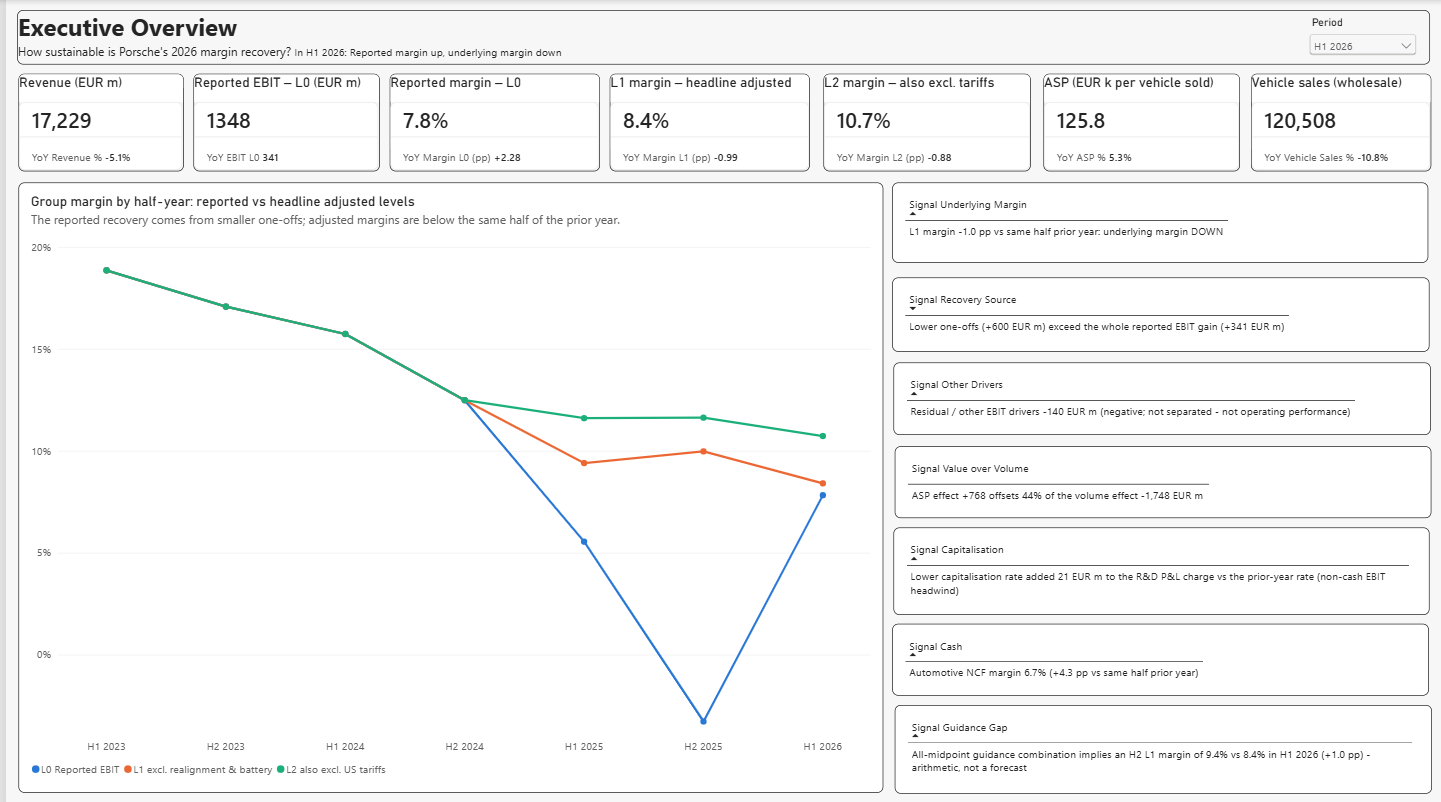

Layout of this report page (visuals, bound fields, positions):
{"tool":"powerbi","page":{"name":"1 Executive Overview","canvas":[1920,1080],"ordinal":0},"visuals":[{"type":"textbox","box":[15.6,13.9,1887.3,73],"z":0},{"type":"cardVisual","title":"Revenue (EUR m)","fields":{"Data":["FactHalfYear.Revenue"]},"box":[16.7,98.5,220.4,130.2],"z":1000},{"type":"lineChart","title":"Group margin by half-year: reported vs headline adjusted levels","fields":{"Category":["DimPeriod.period_label"],"Series":["DimLevel.level_name"],"Y":["FactHalfYear.Margin by Level"]},"box":[16.7,243.8,1155.5,814.8],"z":2000},{"type":"slicer","fields":{"Values":["DimPeriod.period_label"]},"box":[1736.6,21.7,151.9,55.1],"z":3000},{"type":"cardVisual","title":"Reported EBIT – L0 (EUR m)","fields":{"Data":["FactHalfYear.EBIT L0 Reported"]},"box":[250.5,98.5,248.8,130.2],"z":4000},{"type":"cardVisual","title":"Reported margin – L0","fields":{"Data":["FactHalfYear.Margin L0"]},"box":[512.6,98.5,280.5,130.2],"z":5000},{"type":"cardVisual","title":"L1 margin – headline adjusted","fields":{"Data":["FactHalfYear.Margin L1"]},"box":[806.5,98.5,267.2,130.2],"z":6000},{"type":"cardVisual","title":"L2 margin – also excl. tariffs","fields":{"Data":["FactHalfYear.Margin L2"]},"box":[1092,98.5,277.2,130.2],"z":7000},{"type":"cardVisual","title":"ASP (EUR k per vehicle sold)","fields":{"Data":["FactHalfYear.ASP (EUR k)"]},"box":[1385.9,98.5,262.2,130.2],"z":8000},{"type":"cardVisual","title":"Vehicle sales (wholesale)","fields":{"Data":["FactHalfYear.Vehicle Sales"]},"box":[1663.1,98.5,240.4,130.2],"z":9000},{"type":"tableEx","fields":{"Values":["FactHalfYear.Signal Underlying Margin"]},"box":[1183.9,243.8,716.3,106.9],"z":10000},{"type":"tableEx","fields":{"Values":["FactHalfYear.Signal Recovery Source"]},"box":[1183.5,370.2,717.7,99.1],"z":11000},{"type":"tableEx","fields":{"Values":["FactHalfYear.Signal Other Drivers"]},"box":[1185.5,484.2,718,96.8],"z":12000},{"type":"tableEx","fields":{"Values":["FactHalfYear.Signal Value over Volume"]},"box":[1187.2,596.1,716.9,96.1],"z":13000},{"type":"tableEx","fields":{"Values":["FactHalfYear.Signal Capitalisation"]},"box":[1185.5,704.6,716.3,116.9],"z":14000},{"type":"tableEx","fields":{"Values":["FactHalfYear.Signal Cash"]},"box":[1183.9,833.2,716.9,96.1],"z":15000},{"type":"tableEx","fields":{"Values":["FactGuidance.Signal Guidance Gap"]},"box":[1187.2,941.7,717.7,118.2],"z":16000}]}

Visuals, with their boxes in screenshot pixels (x1, y1, x2, y2), scaled from the page's 1920x1080 canvas onto the 1441x802 screenshot:
textbox: bbox(12, 10, 1428, 65)
"Revenue (EUR m)" cardVisual: bbox(13, 73, 178, 170)
"Group margin by half-year: reported vs headline adjusted levels" lineChart: bbox(13, 181, 880, 786)
slicer - DimPeriod.period_label: bbox(1303, 16, 1417, 57)
"Reported EBIT – L0 (EUR m)" cardVisual: bbox(188, 73, 375, 170)
"Reported margin – L0" cardVisual: bbox(385, 73, 595, 170)
"L1 margin – headline adjusted" cardVisual: bbox(605, 73, 806, 170)
"L2 margin – also excl. tariffs" cardVisual: bbox(820, 73, 1028, 170)
"ASP (EUR k per vehicle sold)" cardVisual: bbox(1040, 73, 1237, 170)
"Vehicle sales (wholesale)" cardVisual: bbox(1248, 73, 1429, 170)
tableEx - FactHalfYear.Signal Underlying Margin: bbox(889, 181, 1426, 260)
tableEx - FactHalfYear.Signal Recovery Source: bbox(888, 275, 1427, 348)
tableEx - FactHalfYear.Signal Other Drivers: bbox(890, 360, 1429, 431)
tableEx - FactHalfYear.Signal Value over Volume: bbox(891, 443, 1429, 514)
tableEx - FactHalfYear.Signal Capitalisation: bbox(890, 523, 1427, 610)
tableEx - FactHalfYear.Signal Cash: bbox(889, 619, 1427, 690)
tableEx - FactGuidance.Signal Guidance Gap: bbox(891, 699, 1430, 787)
